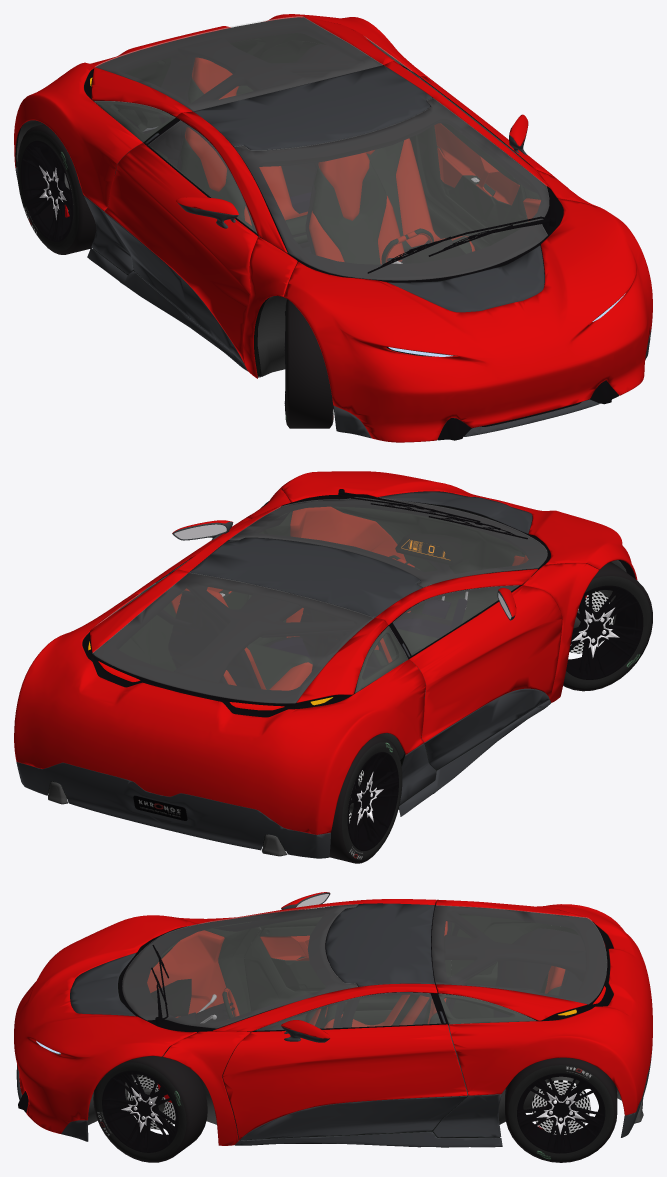
Rendered from car.glb.
3 views of the same model, one above another, from view 1: azimuth 30°, elevation 25°; view 2: azimuth 150°, elevation 25°; view 3: azimuth 270°, elevation 25° (orthographic). The views are drawn at different scales.
Visible parts, largest first — view 1: BodyRearPanelsColor1, BodyWindshield, BodyWindshieldGasket, BodyRoofPanel, InteriorDashSides, InteriorDashMid, InteriorSeatsColor2, object 21, WheelFrontLRim, BodyUnderside, InteriorMid, InteriorSteeringDash; view 2: BodyRearPanelsColor1, BodyWindshield, BodyRoofPanel, BodyWindshieldGasket, InteriorDashMid, WheelFrontLRim, object 21, InteriorDashSides, InteriorSeatsColor2, InteriorFloormats, InteriorSteeringDash, BodyUnderside (+3 smaller); view 3: BodyRearPanelsColor1, BodyWindshield, BodyRoofPanel, BodyWindshieldGasket, object 21, WheelFrontLRim, InteriorDashMid, InteriorDashSides, InteriorMid, WheelFrontLBrakeDisc, BodyUnderside, InteriorSeatsColor2 (+1 smaller).
Part boxes in pixels (x1=…): BodyRearPanelsColor1: x1=14, y1=14, x2=652, y2=442; BodyWindshield: x1=94, y1=16, x2=548, y2=280; BodyWindshieldGasket: x1=16, y1=17, x2=618, y2=440; BodyRoofPanel: x1=15, y1=65, x2=651, y2=438; InteriorDashSides: x1=185, y1=57, x2=540, y2=349; InteriorDashMid: x1=15, y1=33, x2=526, y2=281; InteriorSeatsColor2: x1=180, y1=78, x2=472, y2=264; object 21: x1=17, y1=124, x2=333, y2=428; WheelFrontLRim: x1=20, y1=140, x2=285, y2=414; BodyUnderside: x1=16, y1=78, x2=526, y2=425; InteriorMid: x1=93, y1=173, x2=557, y2=376; InteriorSteeringDash: x1=404, y1=239, x2=465, y2=263; BodyRearPanelsColor1: x1=14, y1=471, x2=637, y2=834; BodyWindshield: x1=92, y1=497, x2=547, y2=703; BodyRoofPanel: x1=16, y1=491, x2=550, y2=858; BodyWindshieldGasket: x1=82, y1=489, x2=635, y2=753; InteriorDashMid: x1=48, y1=502, x2=528, y2=850; WheelFrontLRim: x1=347, y1=585, x2=643, y2=850; object 21: x1=260, y1=501, x2=652, y2=863; InteriorDashSides: x1=171, y1=506, x2=528, y2=690; InteriorSeatsColor2: x1=246, y1=628, x2=437, y2=689; InteriorFloormats: x1=269, y1=598, x2=467, y2=659; InteriorSteeringDash: x1=395, y1=533, x2=462, y2=566; BodyUnderside: x1=48, y1=560, x2=626, y2=856; BodyRearPanelsColor1: x1=14, y1=892, x2=652, y2=1145; BodyWindshield: x1=122, y1=904, x2=606, y2=1030; BodyRoofPanel: x1=16, y1=892, x2=652, y2=1147; BodyWindshieldGasket: x1=18, y1=901, x2=613, y2=1143; object 21: x1=93, y1=1054, x2=617, y2=1162; WheelFrontLRim: x1=102, y1=1070, x2=605, y2=1153; InteriorDashMid: x1=118, y1=908, x2=613, y2=1030; InteriorDashSides: x1=147, y1=921, x2=565, y2=1028; InteriorMid: x1=205, y1=921, x2=499, y2=1143; WheelFrontLBrakeDisc: x1=127, y1=1075, x2=590, y2=1134; BodyUnderside: x1=39, y1=927, x2=643, y2=1125; InteriorSeatsColor2: x1=304, y1=973, x2=560, y2=1028.
Size of the model in its own units: 2.54 by 1.15 by 4.36.
23 materials, 18 textured.
